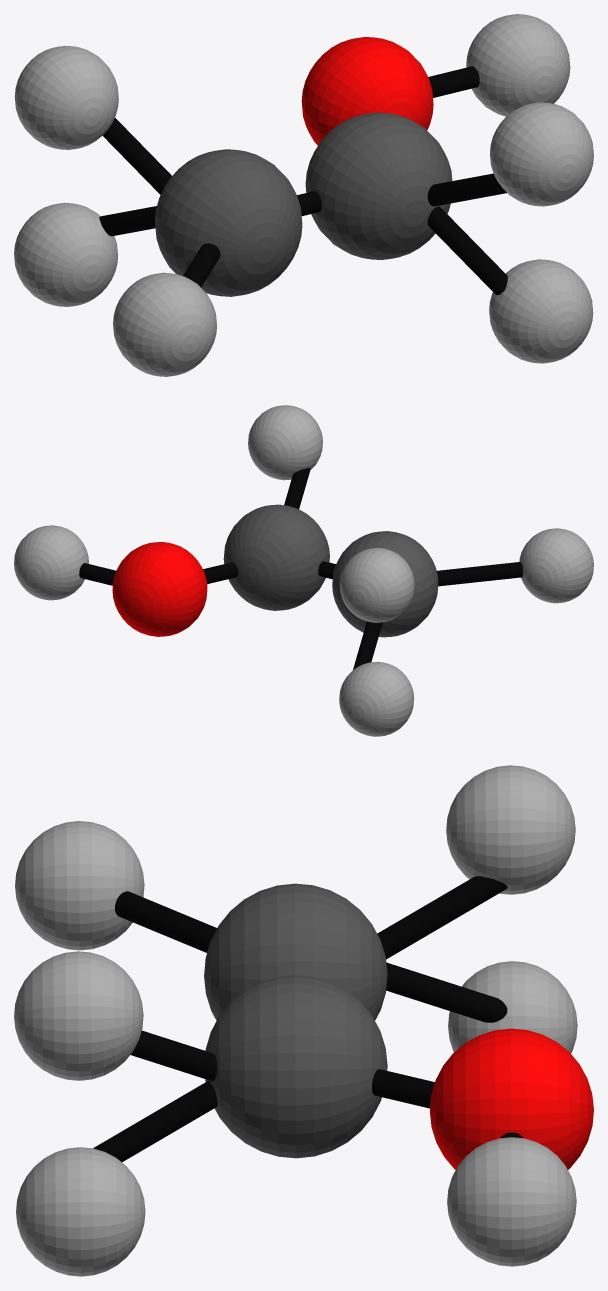
File: EthanolScene.dae
3 views of the same model, one above another, from view 1: azimuth 30°, elevation 25°; view 2: azimuth 150°, elevation 25°; view 3: azimuth 270°, elevation 25° (orthographic). The views are drawn at different scales.
Visible parts, largest first — view 1: CarbonNode1, CarbonNode2, OxygenNode1, HydrogenNode5, HydrogenNode6, HydrogenNode4, HydrogenNode3, HydrogenNode2, HydrogenNode1, Bond3, Bond4, Bond2 (+4 smaller); view 2: CarbonNode2, OxygenNode1, HydrogenNode5, HydrogenNode3, HydrogenNode4, CarbonNode1, HydrogenNode6, HydrogenNode1, Bond6, Bond5, Bond2, Bond8 (+1 smaller); view 3: CarbonNode2, OxygenNode1, CarbonNode1, HydrogenNode1, HydrogenNode2, HydrogenNode6, HydrogenNode5, HydrogenNode4, HydrogenNode3, Bond4, Bond3, Bond5 (+3 smaller).
Boxes of the visible parts, x1=… form: CarbonNode1: x1=155, y1=149, x2=302, y2=296; CarbonNode2: x1=305, y1=112, x2=452, y2=259; OxygenNode1: x1=301, y1=37, x2=433, y2=145; HydrogenNode5: x1=14, y1=45, x2=118, y2=149; HydrogenNode6: x1=490, y1=102, x2=593, y2=206; HydrogenNode4: x1=113, y1=272, x2=216, y2=376; HydrogenNode3: x1=14, y1=202, x2=117, y2=306; HydrogenNode2: x1=489, y1=259, x2=593, y2=363; HydrogenNode1: x1=466, y1=14, x2=570, y2=116; Bond3: x1=427, y1=206, x2=507, y2=294; Bond4: x1=102, y1=118, x2=171, y2=194; Bond2: x1=427, y1=173, x2=506, y2=206; CarbonNode2: x1=223, y1=504, x2=329, y2=610; OxygenNode1: x1=112, y1=542, x2=207, y2=636; HydrogenNode5: x1=339, y1=547, x2=414, y2=622; HydrogenNode3: x1=339, y1=661, x2=414, y2=736; HydrogenNode4: x1=519, y1=528, x2=593, y2=603; CarbonNode1: x1=332, y1=531, x2=438, y2=637; HydrogenNode6: x1=248, y1=405, x2=322, y2=480; HydrogenNode1: x1=14, y1=525, x2=88, y2=600; Bond6: x1=437, y1=562, x2=522, y2=586; Bond5: x1=353, y1=621, x2=382, y2=669; Bond2: x1=284, y1=468, x2=310, y2=509; Bond8: x1=79, y1=563, x2=115, y2=585; CarbonNode2: x1=205, y1=975, x2=387, y2=1158; OxygenNode1: x1=429, y1=1028, x2=593, y2=1169; CarbonNode1: x1=204, y1=883, x2=387, y2=1020; HydrogenNode1: x1=447, y1=1137, x2=576, y2=1266; HydrogenNode2: x1=16, y1=1147, x2=145, y2=1276; HydrogenNode6: x1=14, y1=951, x2=143, y2=1080; HydrogenNode5: x1=446, y1=765, x2=575, y2=894; HydrogenNode4: x1=15, y1=821, x2=144, y2=950; HydrogenNode3: x1=448, y1=961, x2=577, y2=1053; Bond4: x1=377, y1=876, x2=507, y2=959; Bond3: x1=93, y1=1080, x2=217, y2=1162; Bond5: x1=386, y1=962, x2=507, y2=1022.
Bounding box in the file's own units: 16.4 × 6.47 × 10.74.
